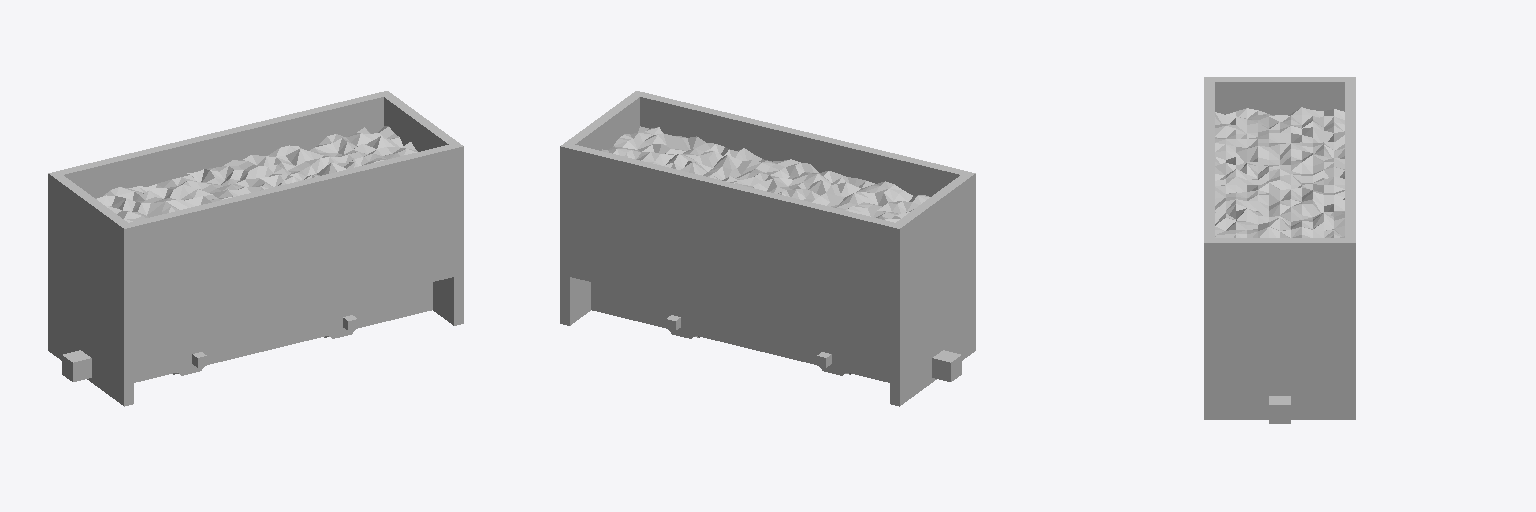
Rendered from z_kitsune_pixie_mineral_wagon.obj.
3 renders of one model, left to right at view 1: azimuth 30°, elevation 25°; view 2: azimuth 150°, elevation 25°; view 3: azimuth 270°, elevation 25°, orthographic.
Visible parts, largest first — view 1: FRAME_Cube.015, CARGO_FILL_100_Plane.004, FRAME.couple_Cube.016; view 2: FRAME_Cube.015, CARGO_FILL_100_Plane.004, FRAME.couple_Cube.016; view 3: FRAME_Cube.015, CARGO_FILL_100_Plane.004, FRAME.couple.001_Cube.005.
Boxes of the visible parts, x1=… form: FRAME_Cube.015: x1=48, y1=91, x2=463, y2=406; CARGO_FILL_100_Plane.004: x1=95, y1=126, x2=417, y2=222; FRAME.couple_Cube.016: x1=62, y1=350, x2=91, y2=381; FRAME_Cube.015: x1=560, y1=91, x2=975, y2=406; CARGO_FILL_100_Plane.004: x1=602, y1=126, x2=929, y2=222; FRAME.couple_Cube.016: x1=932, y1=350, x2=961, y2=381; FRAME_Cube.015: x1=1204, y1=77, x2=1355, y2=419; CARGO_FILL_100_Plane.004: x1=1215, y1=107, x2=1344, y2=237; FRAME.couple.001_Cube.005: x1=1269, y1=396, x2=1290, y2=423.
Size of the model in its own units: 2.5 by 1.22 by 0.875.